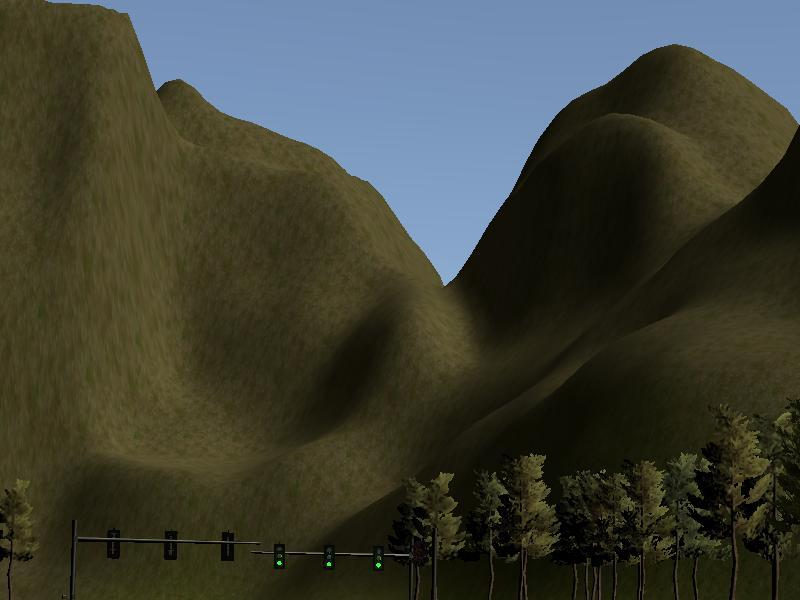Green: (323, 544, 336, 572), (372, 545, 385, 572), (272, 540, 284, 569)
